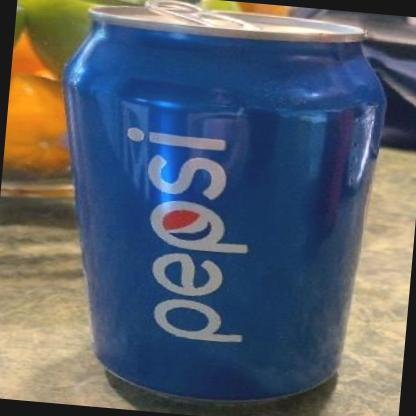alumunium_can: (31, 0, 395, 416)
